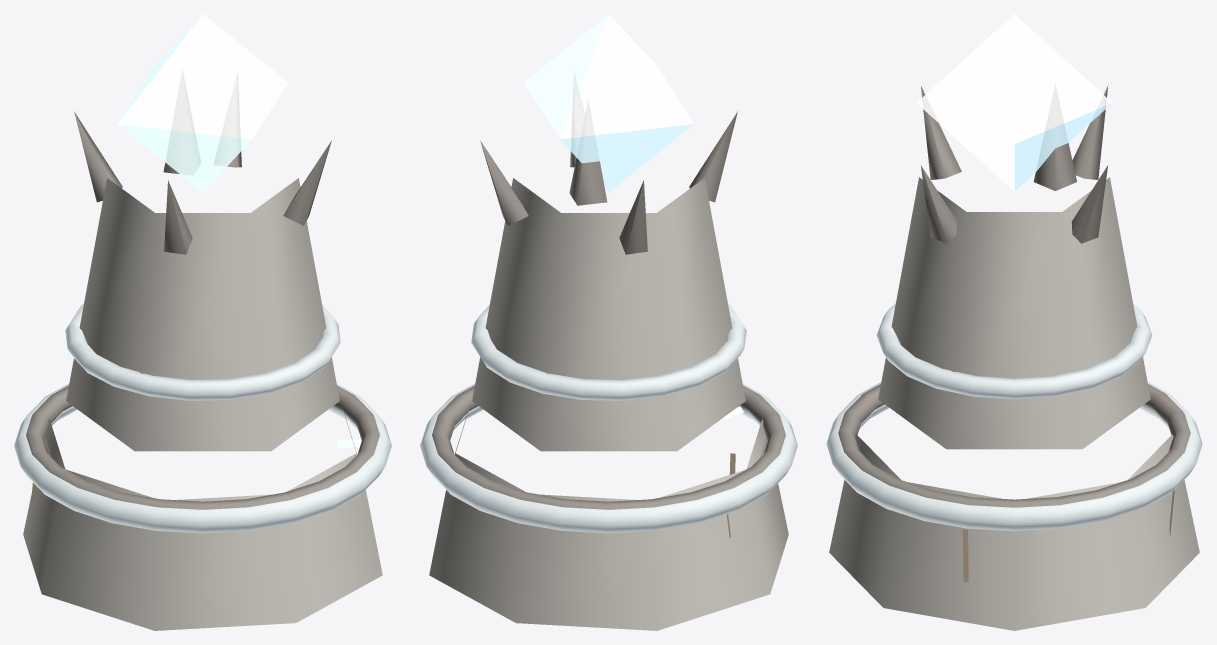
The model's file is tower_slow_3.glb.
The picture shows the model from 3 angles, left to right: view 1: azimuth 30°, elevation 25°; view 2: azimuth 150°, elevation 25°; view 3: azimuth 270°, elevation 25°; orthographic projection.
Parts seen in each view (by area): view 1: turret, base; view 2: turret, base; view 3: turret, base.
Part boxes in pixels (box(x1,y1,x2,y2)): turret: box(66, 14, 339, 451); base: box(14, 81, 391, 630); turret: box(472, 14, 745, 451); base: box(420, 102, 797, 630); turret: box(878, 14, 1150, 449); base: box(826, 104, 1202, 630).
Bounding box in the file's own units: 2.76 × 4.36 × 2.76.
